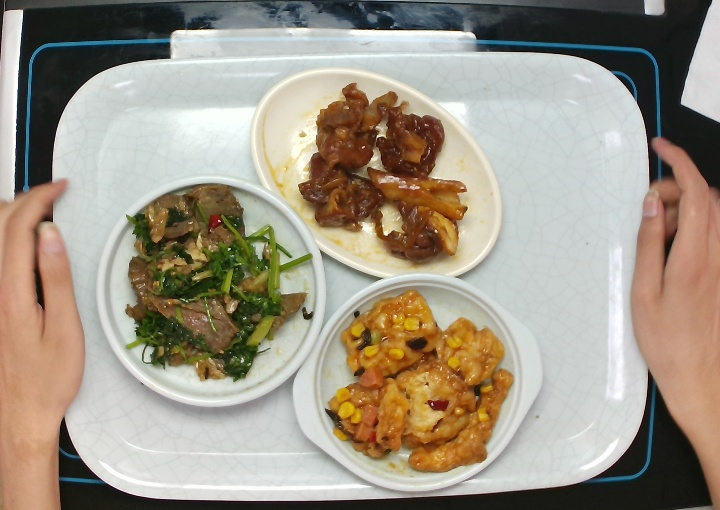JYsf-Shuang_Er_Pan: (291, 272, 544, 495)
JYsf-Tuo_Yuan_Wan: (248, 66, 504, 281)
JYsf-Xiao_Yuan_Pan: (94, 175, 328, 408)
